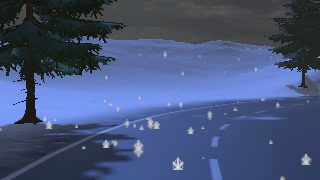Lane: (4, 96, 319, 179)
